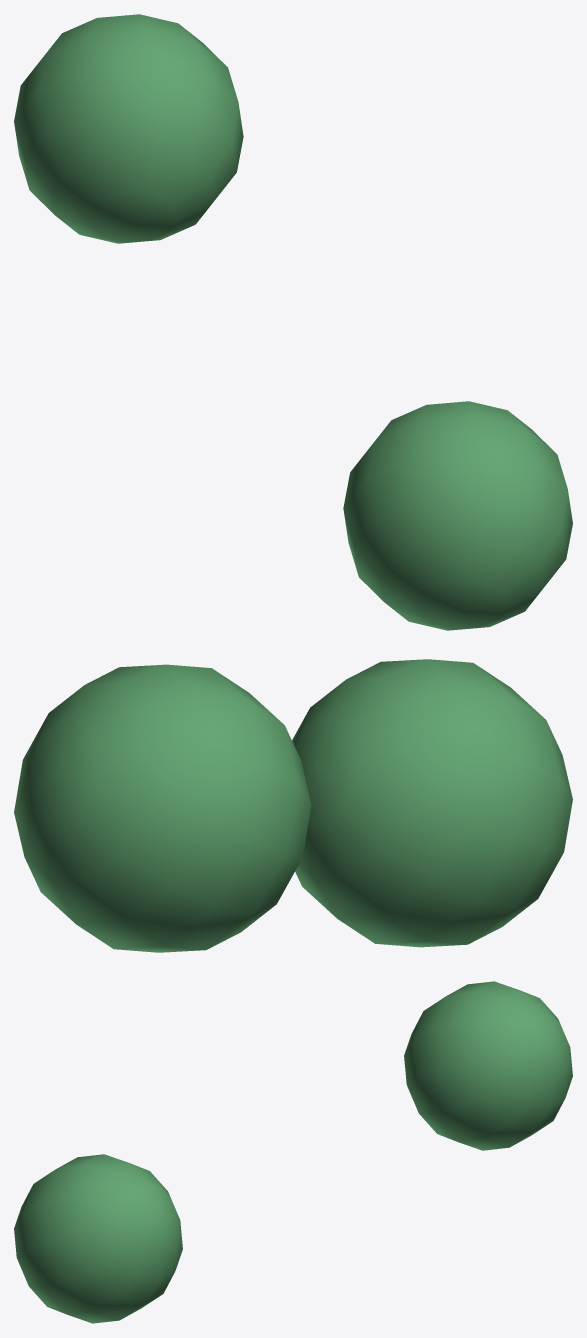
The picture shows the model from 3 angles, top to bottom: view 1: azimuth 30°, elevation 25°; view 2: azimuth 150°, elevation 25°; view 3: azimuth 270°, elevation 25°; orthographic projection. The views are drawn at different scales.
Parts seen in each view (by area): view 1: 右侧腋中央淋巴结; view 2: 右侧腋中央淋巴结; view 3: 右侧腋中央淋巴结.
Boxes of the visible parts, bbox=[...] form: 右侧腋中央淋巴结: bbox=[14, 14, 572, 630]; 右侧腋中央淋巴结: bbox=[14, 659, 572, 952]; 右侧腋中央淋巴结: bbox=[14, 981, 572, 1323].
Size of the model in its own units: 0.00499 by 0.0075 by 0.0126.
